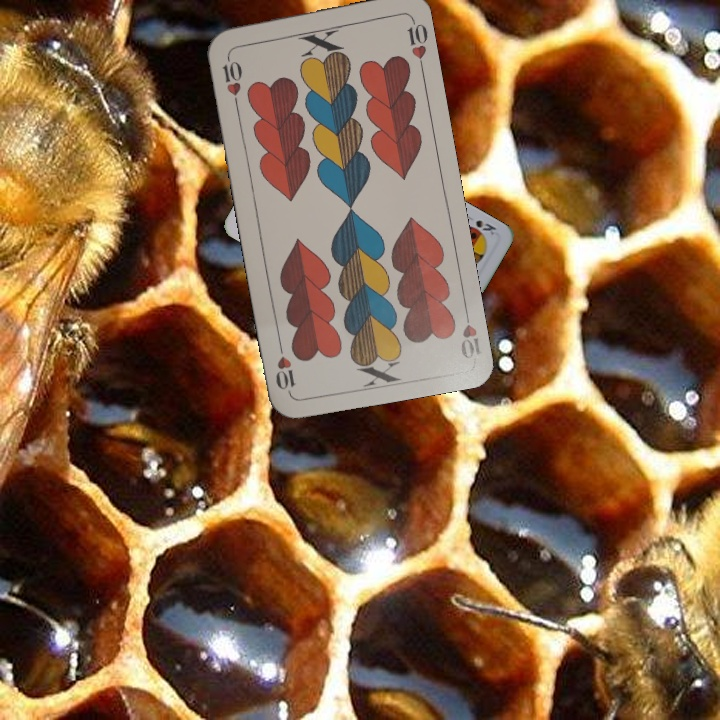H10: (456, 302, 483, 362), (219, 50, 245, 109)
SK: (462, 211, 499, 238)
